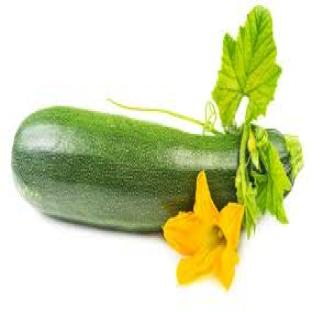Zucchini: (13, 108, 239, 230)
